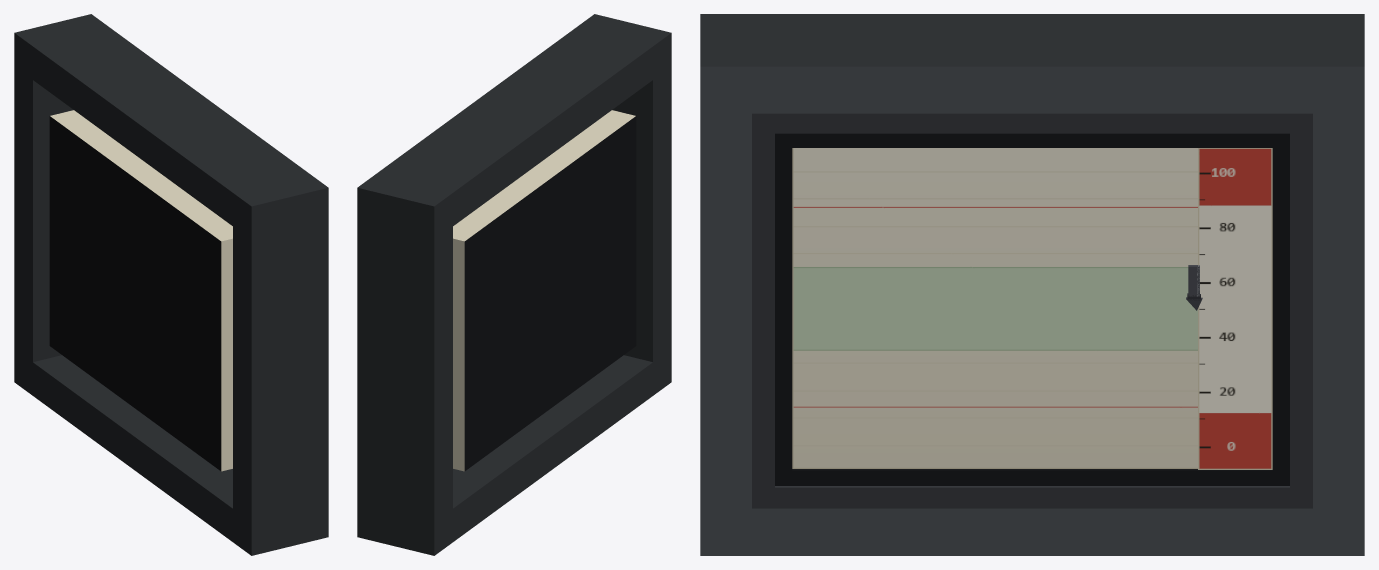
File: plotter_l_surface.obj
The picture shows the model from 3 angles, left to right: view 1: azimuth 30°, elevation 25°; view 2: azimuth 150°, elevation 25°; view 3: azimuth 270°, elevation 25°; orthographic projection. The views are drawn at different scales.
Parts seen in each view (by area): view 1: Body; view 2: Body; view 3: Body.
Boxes of the visible parts, left/top/right/bottom form: Body: left=14, top=14, right=328, bottom=555; Body: left=357, top=14, right=671, bottom=555; Body: left=700, top=14, right=1364, bottom=555.
Bounding box in the file's own units: 0.1875 × 0.8125 × 1.
